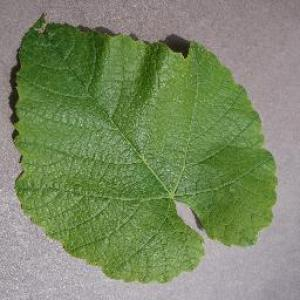Folha: (8, 10, 278, 284)
